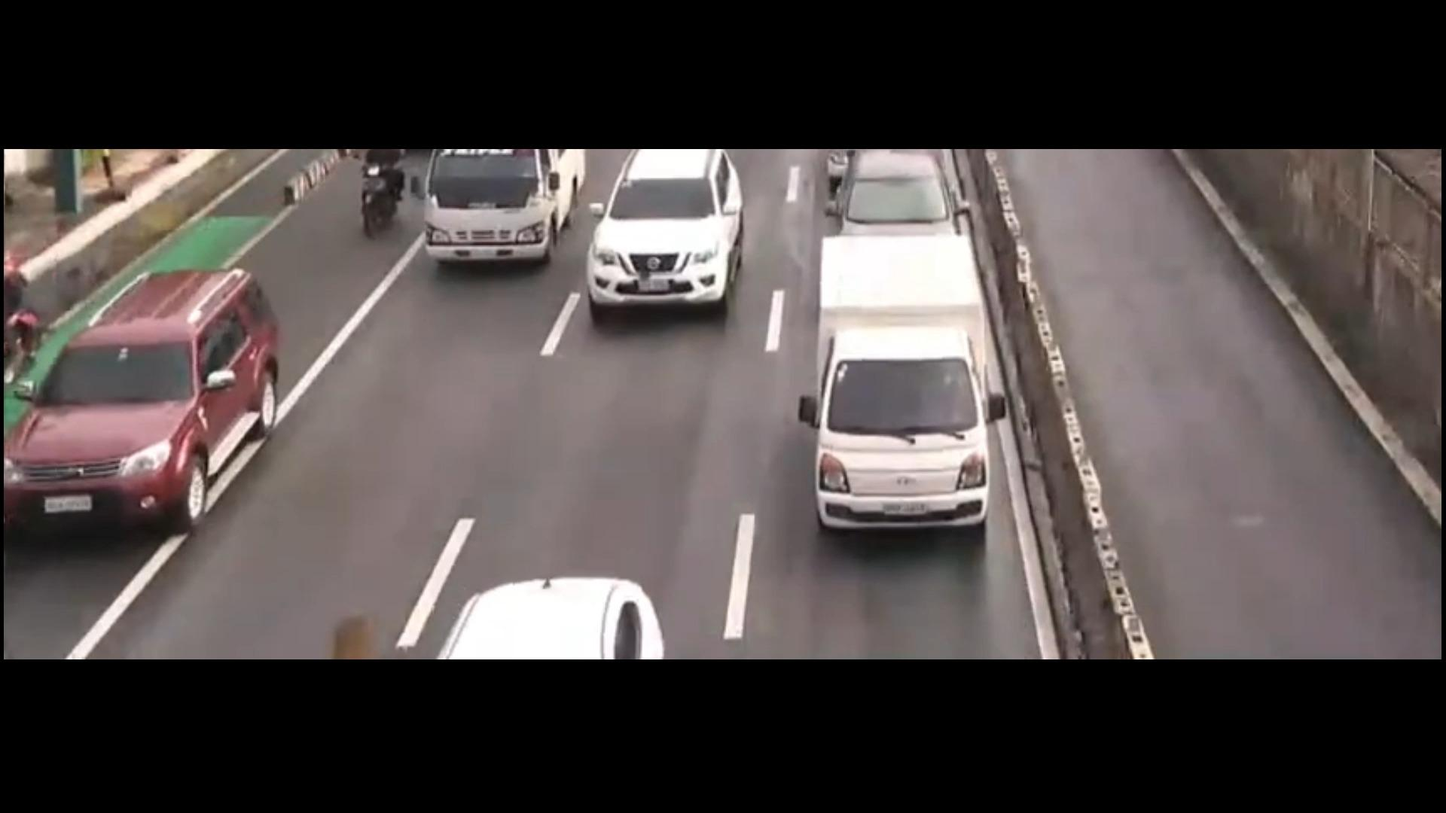Motorcycle: (342, 131, 410, 251)
Multicab: (791, 237, 994, 533)
SUV: (2, 271, 279, 540), (587, 162, 744, 309)
Sedan: (819, 152, 975, 262)
Truck: (412, 149, 586, 269)
